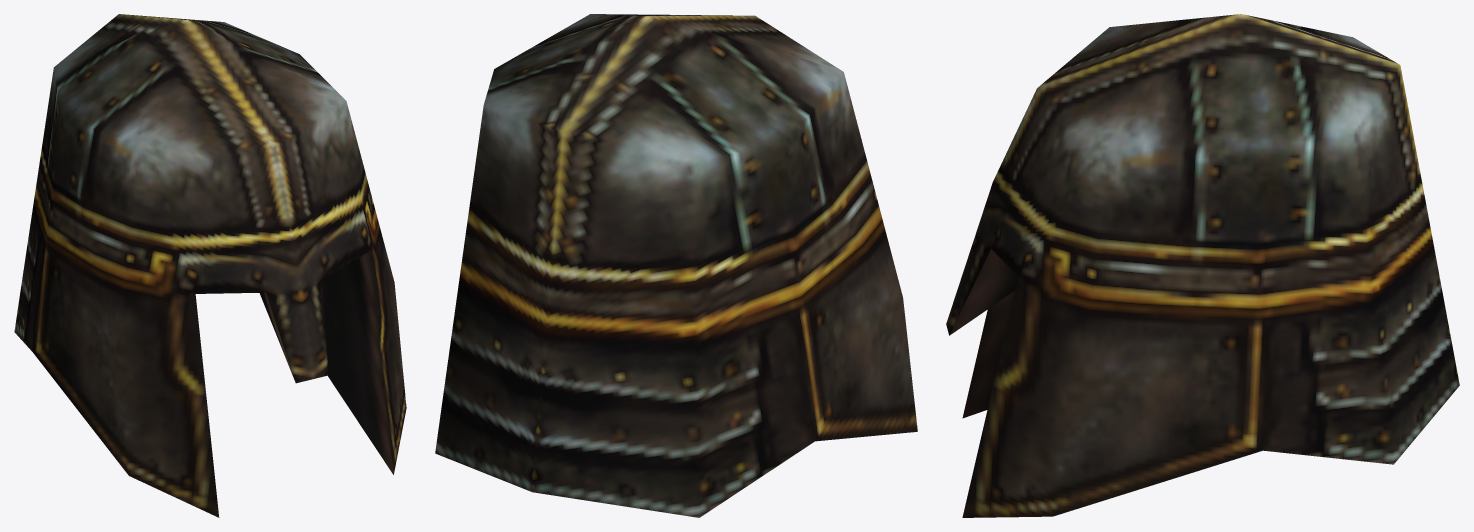
Rendered from Helmet.FBX.
3 views of the same model, side by side, from view 1: azimuth 30°, elevation 25°; view 2: azimuth 150°, elevation 25°; view 3: azimuth 270°, elevation 25° (orthographic). The views are drawn at different scales.
Parts seen in each view (by area): view 1: Helmet; view 2: Helmet; view 3: Helmet.
Boxes of the visible parts, bbox=[...] form: Helmet: bbox=[14, 14, 406, 517]; Helmet: bbox=[435, 14, 917, 517]; Helmet: bbox=[946, 14, 1459, 517].
Bounding box in the file's own units: 21.86 × 27.97 × 28.66.
